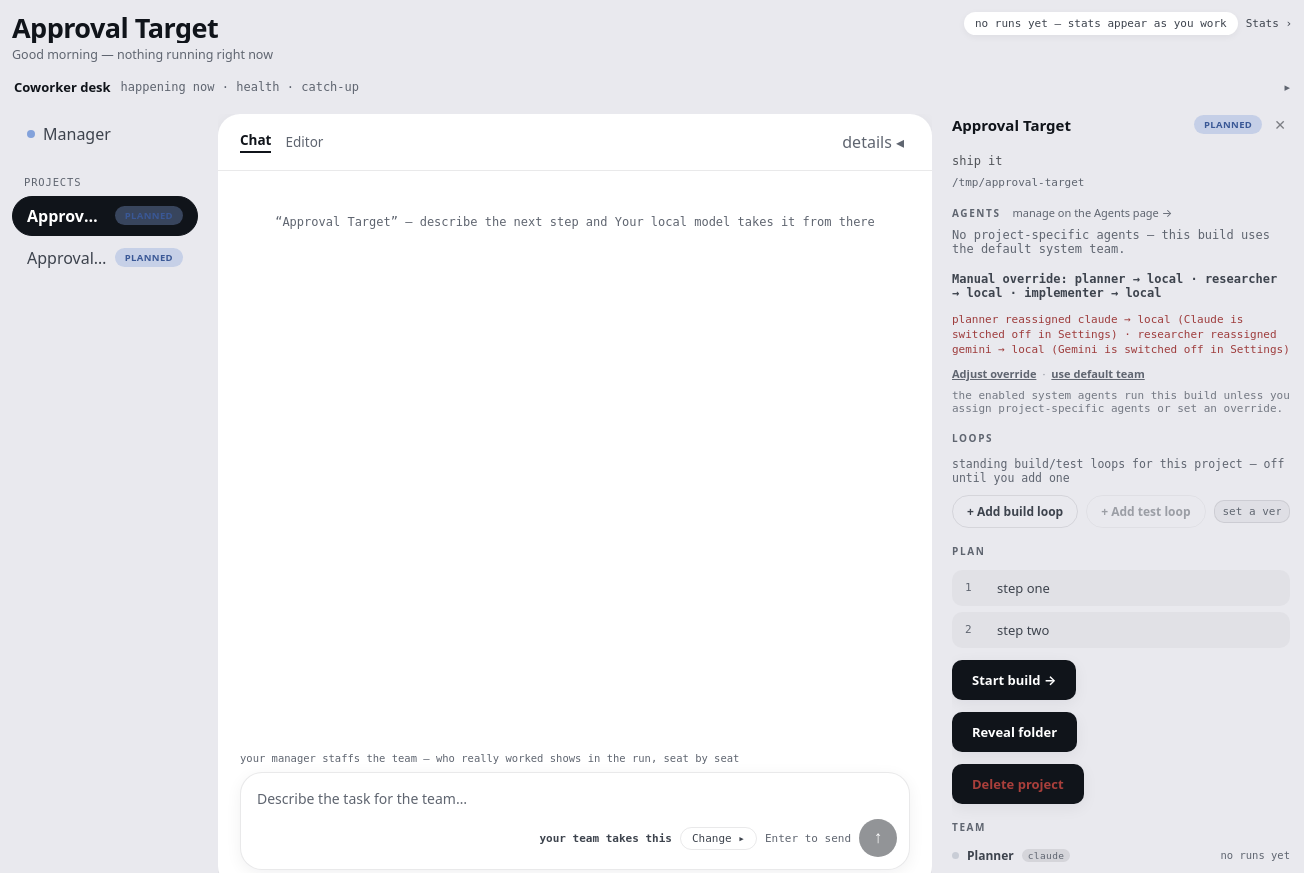
ProjectContextPanel — Start build approval gate (MV5) › a role whose provider is NOT connected is REASSIGNED in the proposal, with the reason
Click the button "Start build →" at (1014, 680), box [952,660,1076,700]
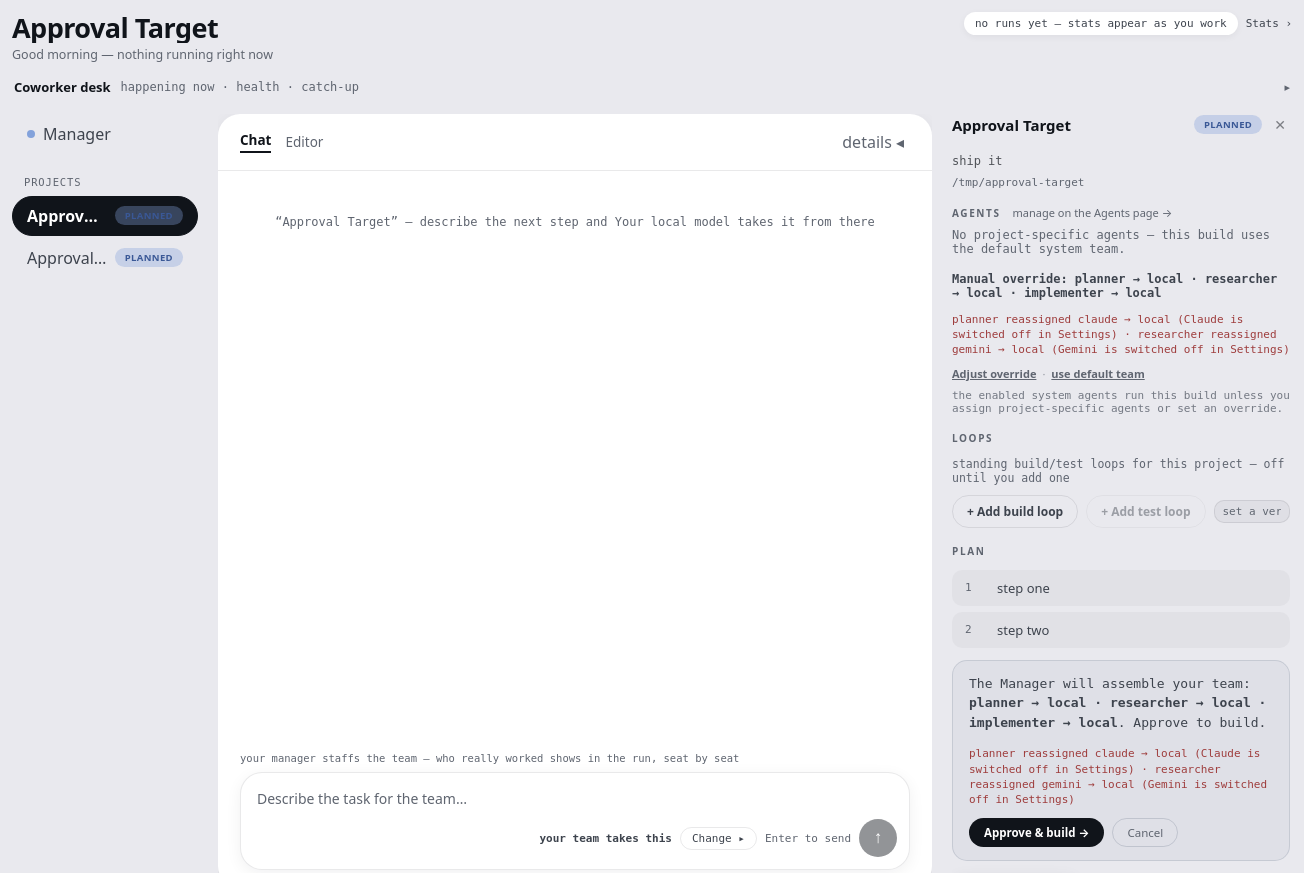
expect the text "planner reassigned claude → local" is shown: met, box [952,312,1290,356]
expect the text "The Manager will assemble your team" shows "implementer → local": met, box [969,695,1266,730]
